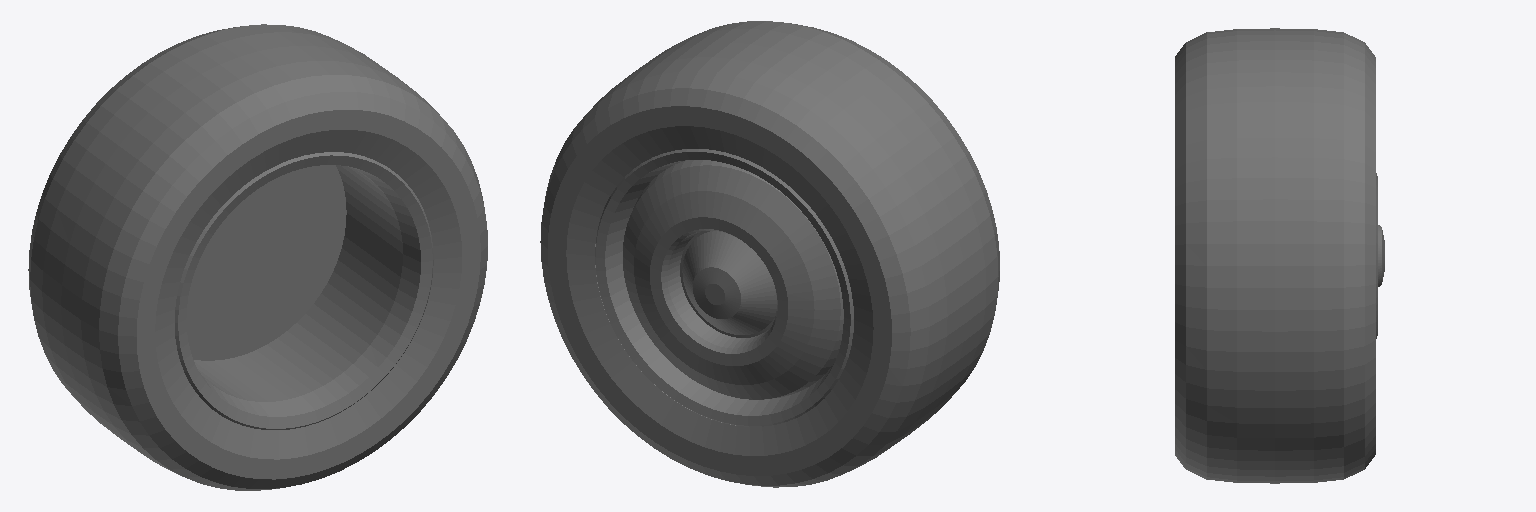
File: incredimovil_llanta_izq.obj
The picture shows the model from 3 angles: view 1: azimuth 30°, elevation 25°; view 2: azimuth 150°, elevation 25°; view 3: azimuth 270°, elevation 25°; orthographic projection.
Visible parts, largest first — view 1: Llanta_Izquierda; view 2: Llanta_Izquierda; view 3: Llanta_Izquierda.
Part boxes in pixels (x1,y1,x2,y2): Llanta_Izquierda: (28,24,487,490); Llanta_Izquierda: (540,21,999,487); Llanta_Izquierda: (1175,28,1384,483).
Size of the model in its own units: 5.98 by 5.98 by 2.77.